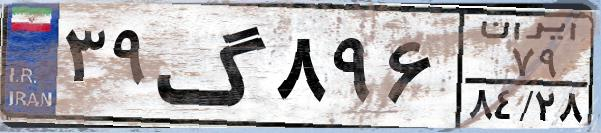2: (535, 70, 560, 125)
3: (57, 26, 110, 100)
4: (495, 70, 520, 125)
6: (385, 28, 445, 110)
7: (508, 27, 537, 80)
8: (270, 28, 330, 110), (560, 70, 590, 125), (470, 70, 495, 125)
9: (330, 28, 385, 110), (110, 28, 156, 98), (537, 27, 568, 80)
گ: (156, 12, 270, 120)
